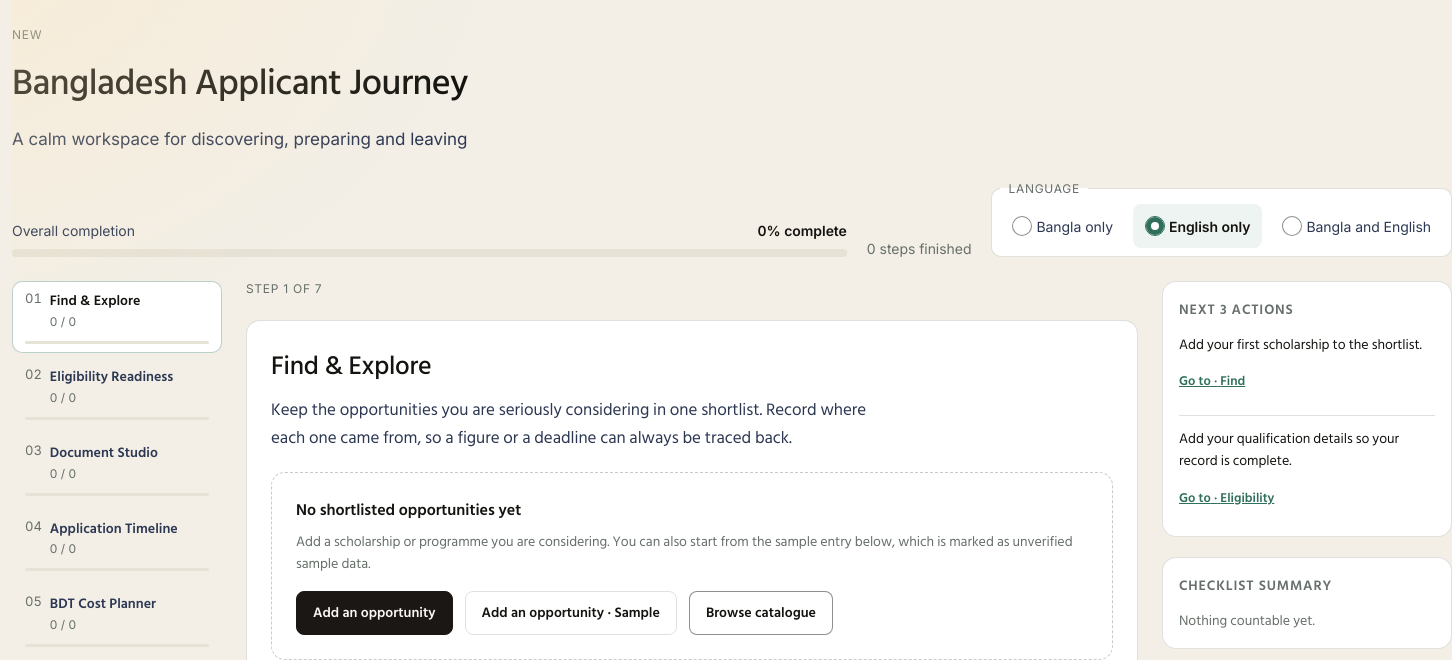
moving between the seven steps › changes the active module
The image size is (1452, 660).
Click the button "05 BDT Cost Planner 0 / 0": [117, 620] box [12,584,222,656]
(page scrolled)
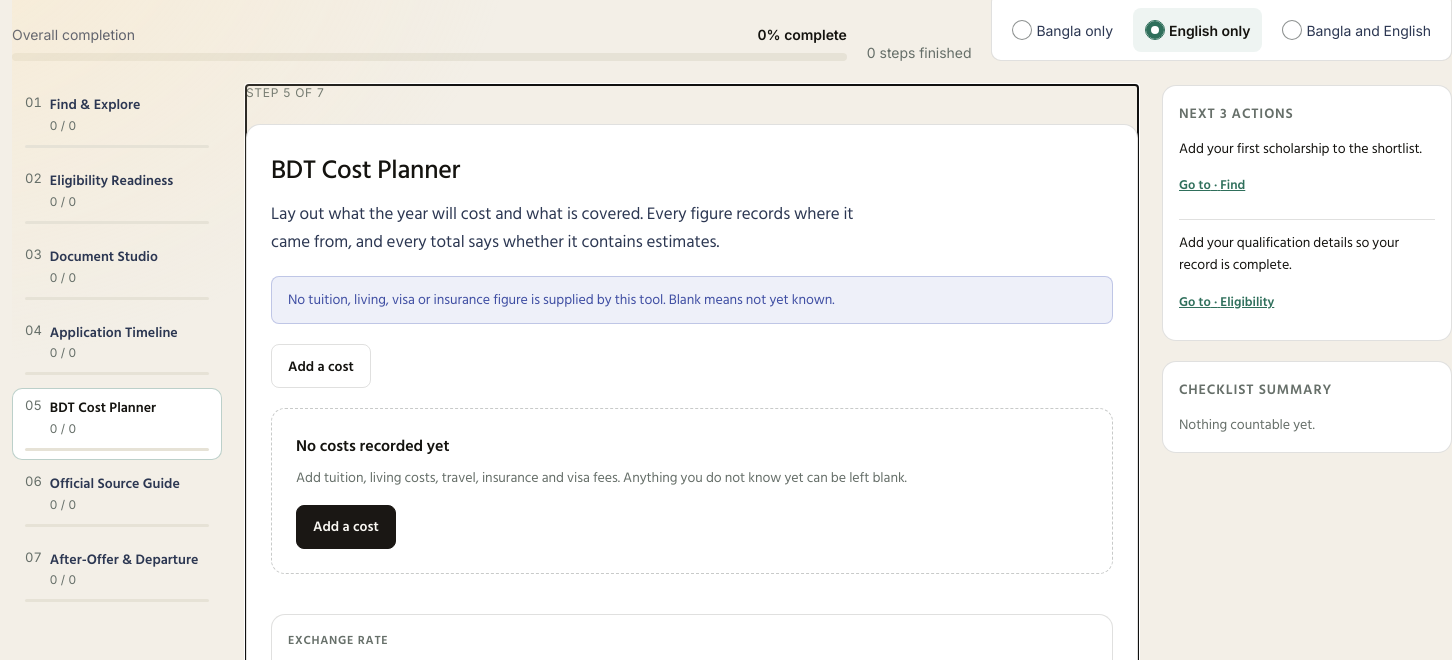
Expected: the text "No costs recorded yet" is shown, [296,433,450,459]
